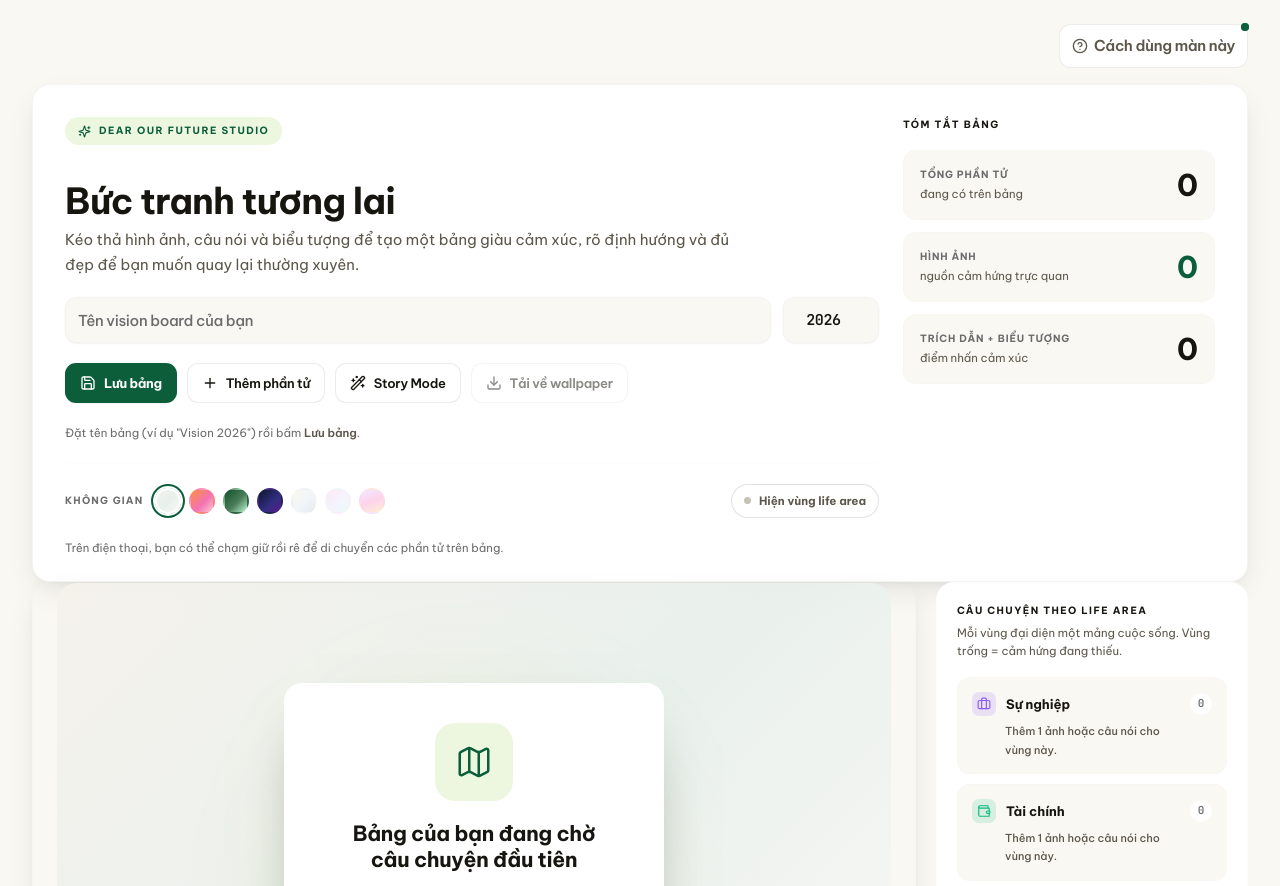
Test: VisionBoardEditor add dialog › renders goals in the goal card tab
Click the button "Thêm phần tử" at [256, 383], box [187,363,325,403]
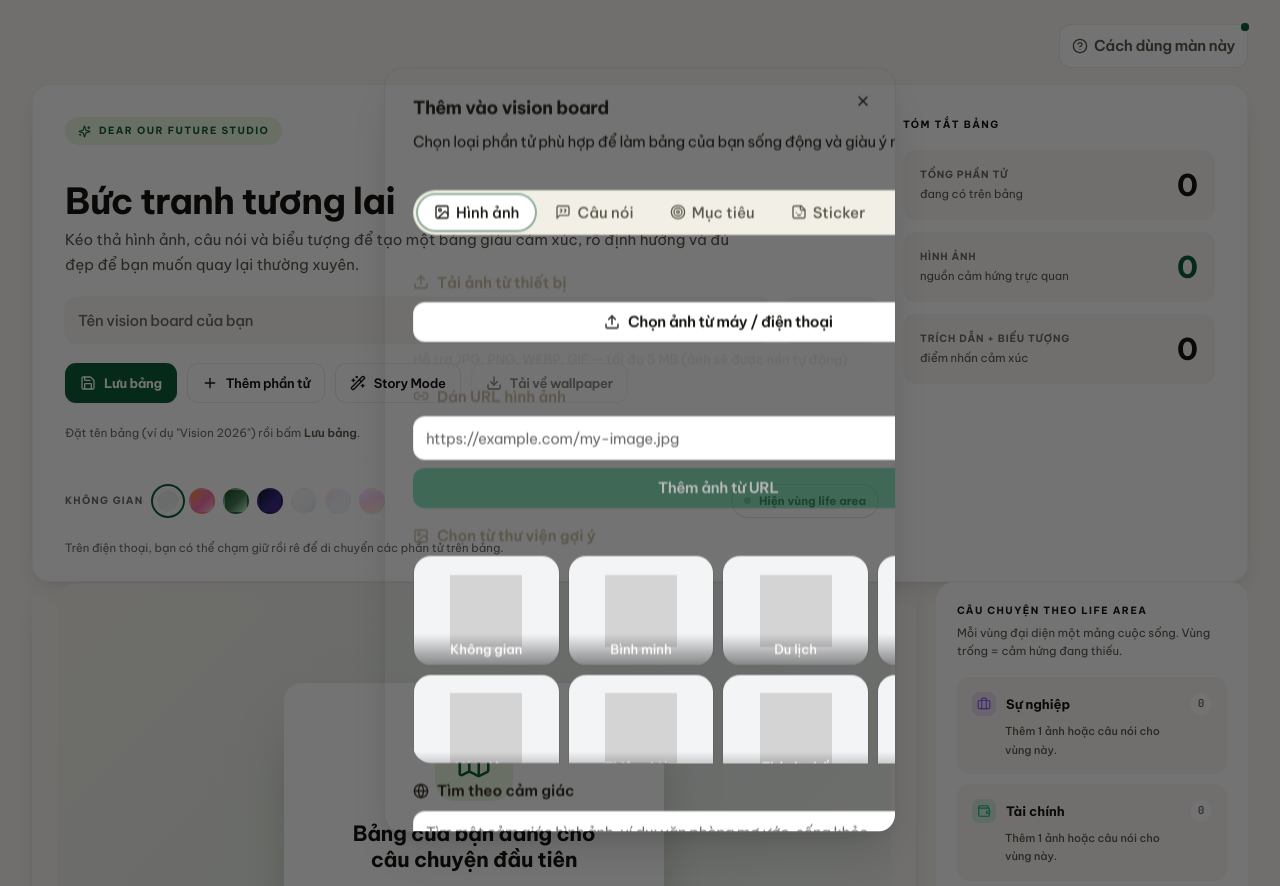
Click the tab "Mục tiêu" at [712, 212], box [654,194,771,229]
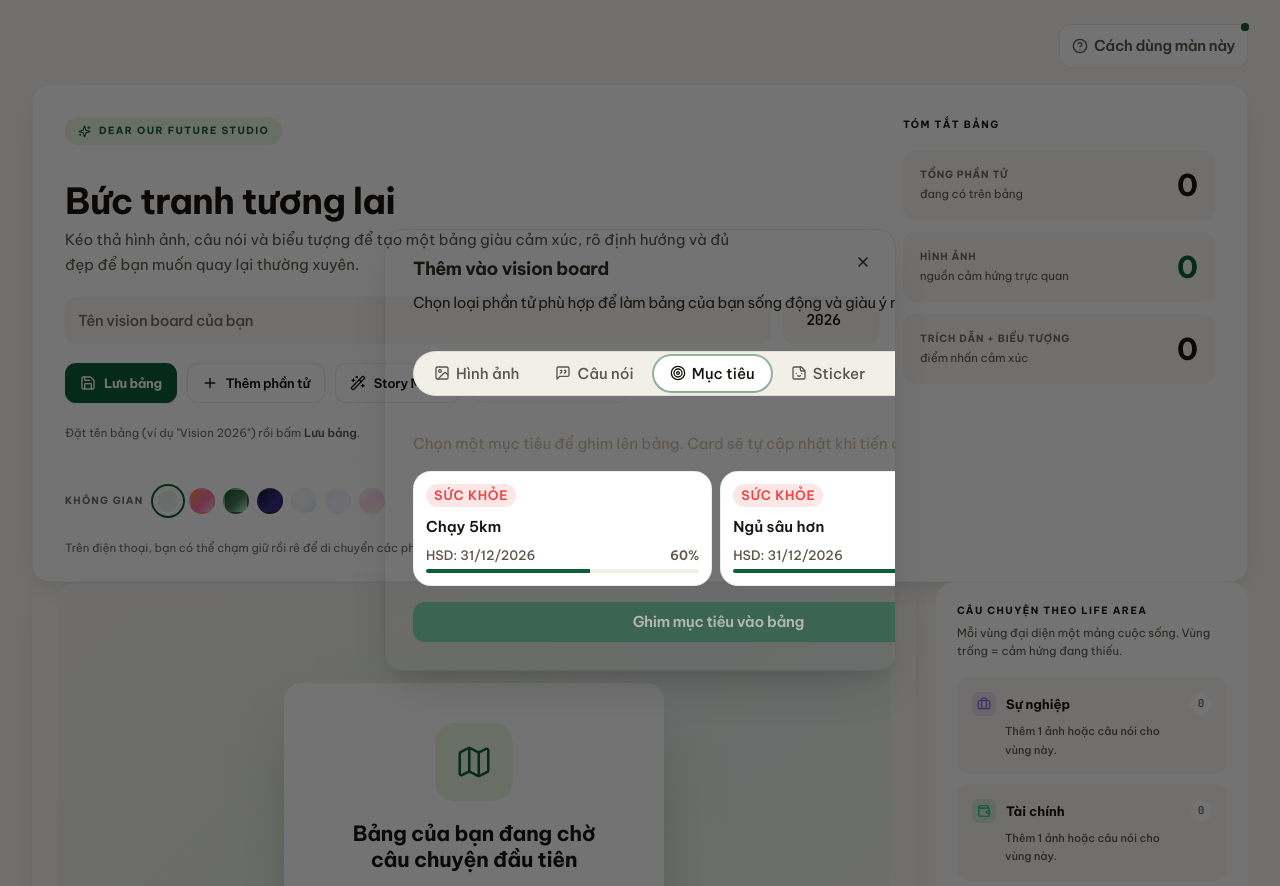
Expected: the text "Chạy 5km" is shown, [426,517,501,536]
Expected: the text "Ngủ sâu hơn" is shown, [733,517,824,536]
